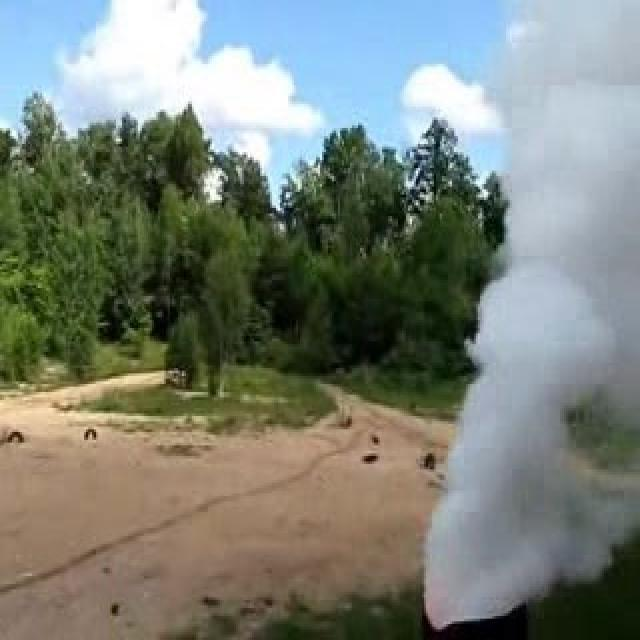Smoke: (417, 0, 640, 640)
